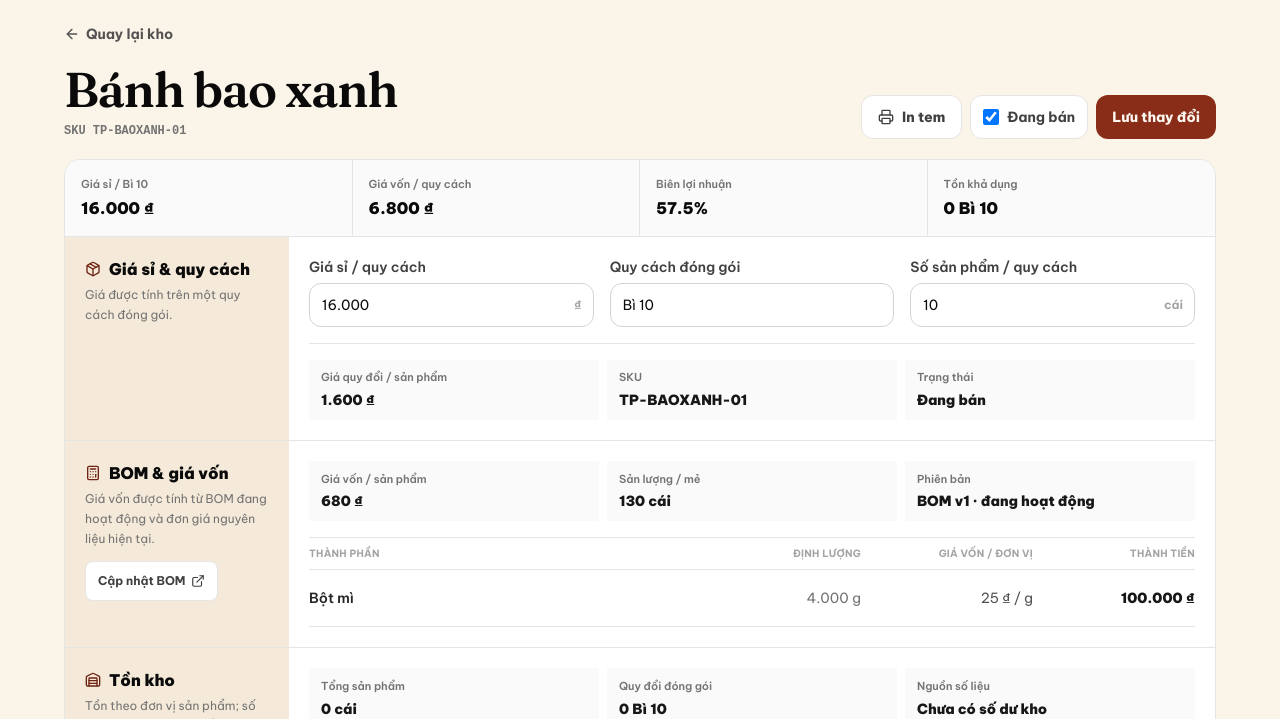
Test case: WholesaleFinishedProductWorkspace › updates the wholesale offer without touching retail fields
Replace the text in the number field labelled "Giá sỉ / quy cách" with "20000". click: (451, 305)
box: [309,283,594,327]
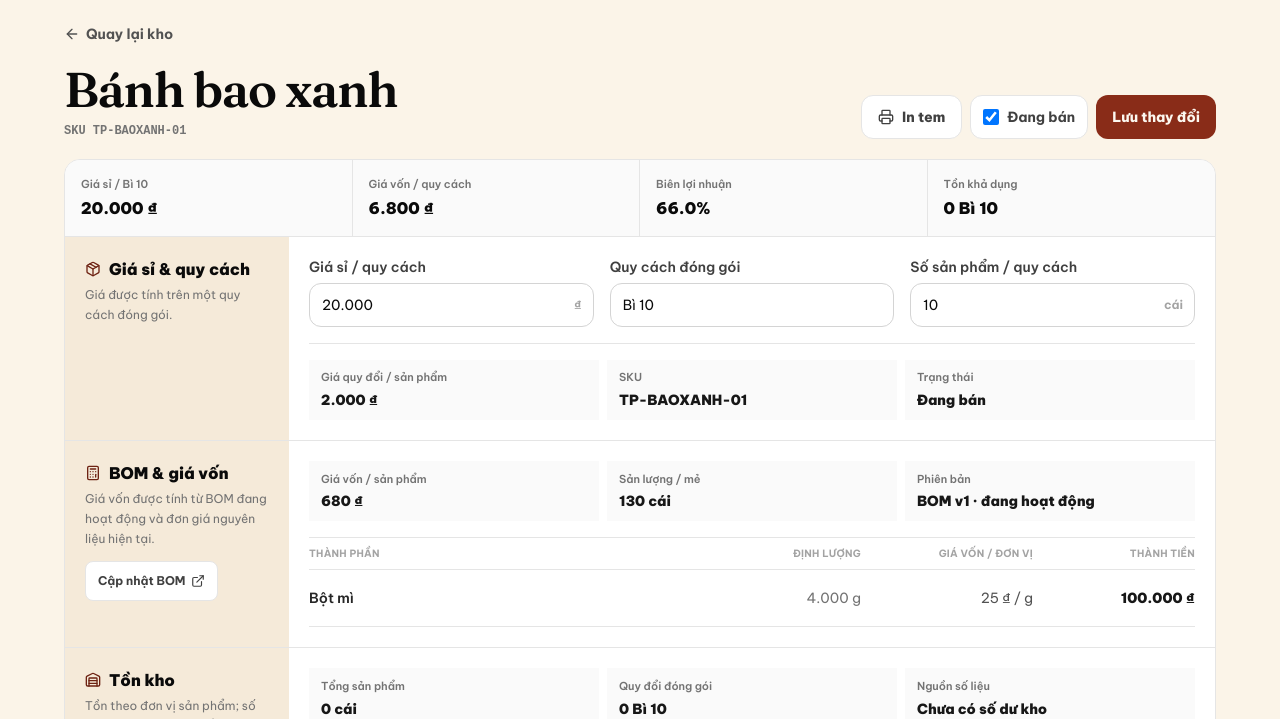
Click the button "Lưu thay đổi". click: (1156, 117)
box: [1096,95,1216,139]
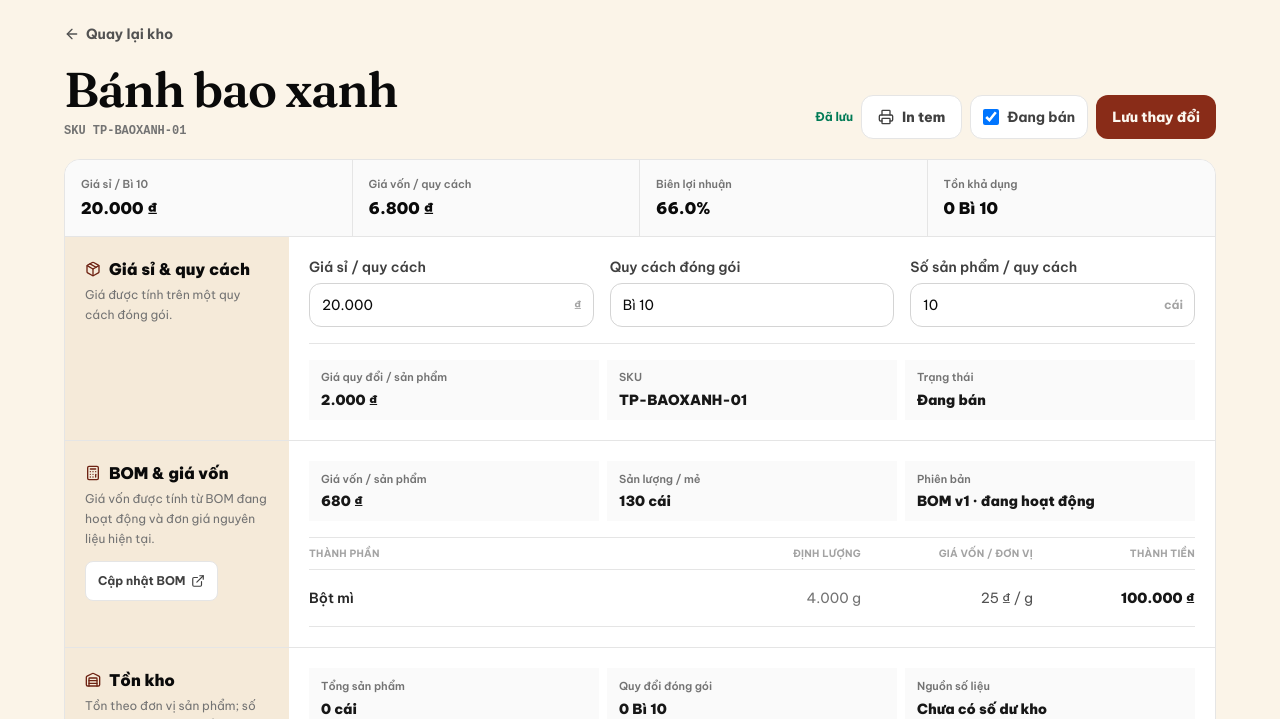
Now the message reads "Đã lưu", box [815,109,853,124]
